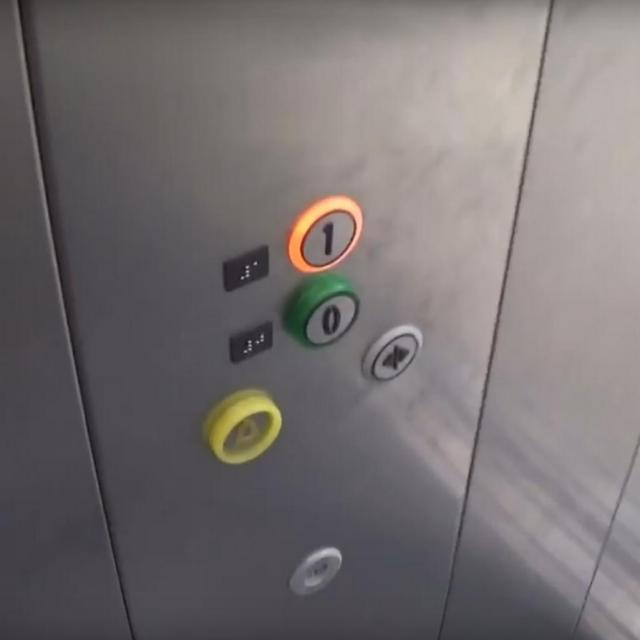0: (281, 274, 364, 347)
1: (281, 194, 371, 273)
alarm: (203, 390, 287, 463)
keyhole: (283, 543, 345, 596)
open: (360, 322, 428, 386)
